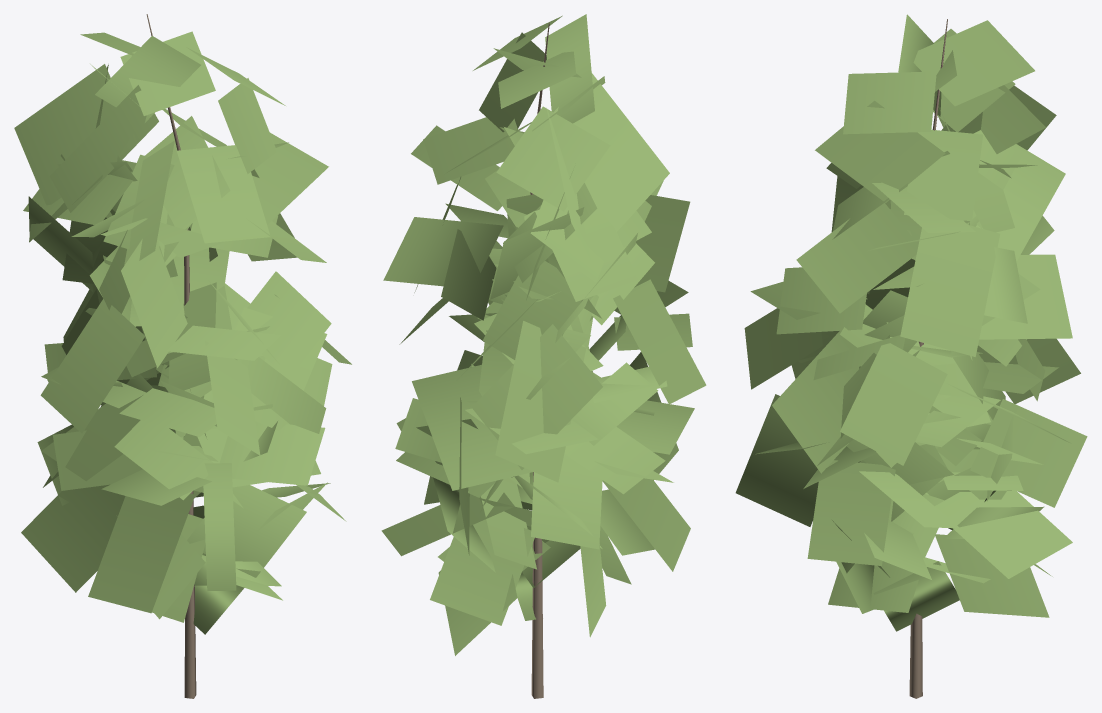
File: Birch_11_young_lod2.glb
The picture shows the model from 3 angles, left to right: view 1: azimuth 30°, elevation 25°; view 2: azimuth 150°, elevation 25°; view 3: azimuth 270°, elevation 25°; orthographic projection. The views are drawn at different scales.
Visible parts, largest first — view 1: Birch_11_young_lod2; view 2: Birch_11_young_lod2; view 3: Birch_11_young_lod2.
Boxes of the visible parts, bbox=[...] form: Birch_11_young_lod2: bbox=[14, 14, 351, 698]; Birch_11_young_lod2: bbox=[381, 14, 706, 698]; Birch_11_young_lod2: bbox=[735, 14, 1087, 698].
Bounding box in the file's own units: 3.93 × 9.04 × 4.35.
